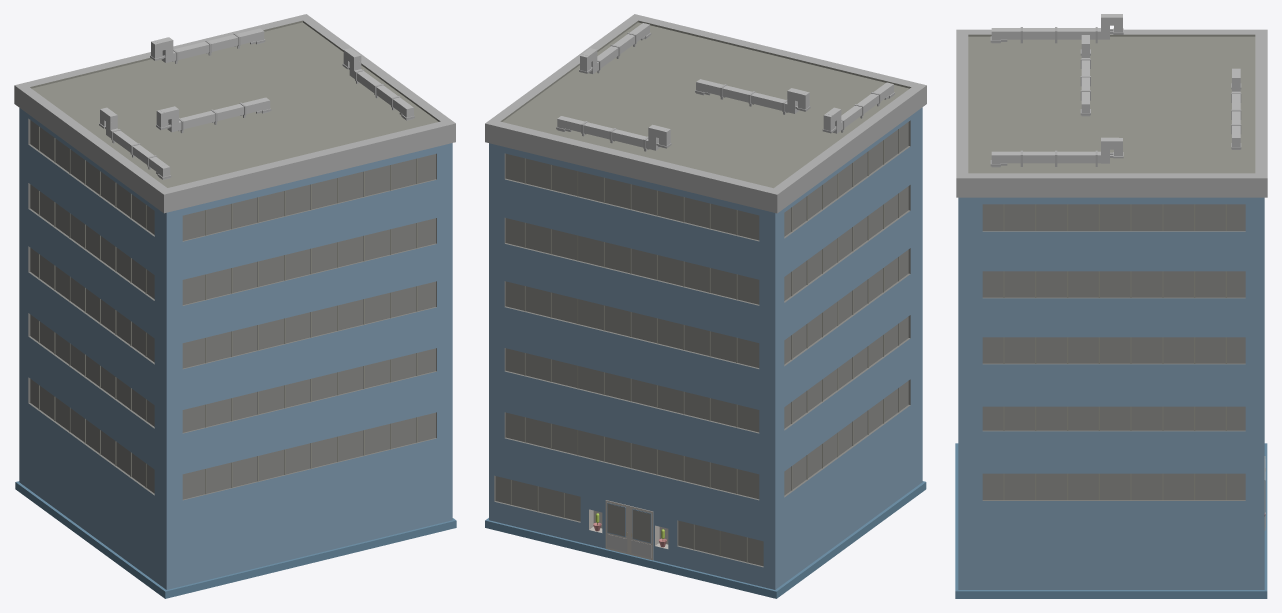
Rendered from house20.fbx.
3 views of the same model, side by side, from view 1: azimuth 30°, elevation 25°; view 2: azimuth 150°, elevation 25°; view 3: azimuth 270°, elevation 25° (orthographic). The views are drawn at different scales.
Parts seen in each view (by area): view 1: Boole_4; view 2: Boole_4; view 3: Boole_4.
Part boxes in pixels (bbox=[...]): Boole_4: bbox=[14, 14, 456, 598]; Boole_4: bbox=[485, 14, 926, 598]; Boole_4: bbox=[955, 14, 1267, 598].
Size of the model in its own units: 1990 by 2779 by 1768.
